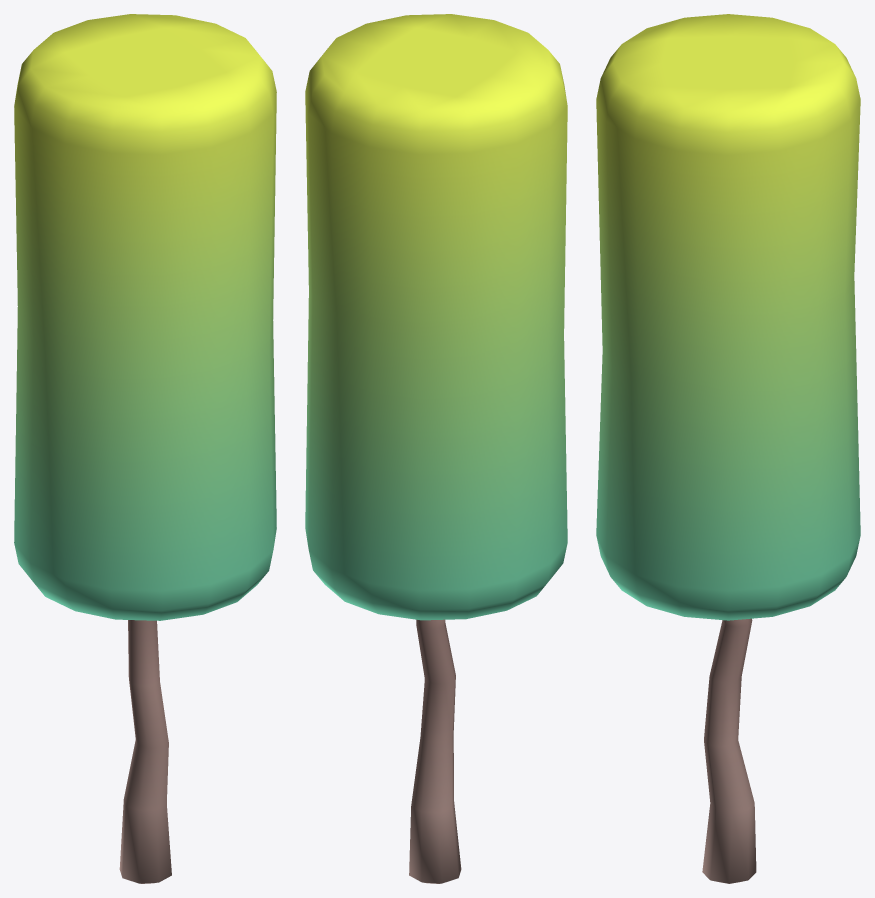
File: Tree04_S_Green.fbx
3 views of the same model, side by side, from view 1: azimuth 30°, elevation 25°; view 2: azimuth 150°, elevation 25°; view 3: azimuth 270°, elevation 25° (orthographic).
Parts seen in each view (by area): view 1: Tree04_S_Green; view 2: Tree04_S_Green; view 3: Tree04_S_Green.
Boxes of the visible parts, x1=… form: Tree04_S_Green: x1=14, y1=14, x2=276, y2=883; Tree04_S_Green: x1=305, y1=14, x2=567, y2=883; Tree04_S_Green: x1=596, y1=14, x2=860, y2=883.
Size of the model in its own units: 2.31 by 7.86 by 2.31.
